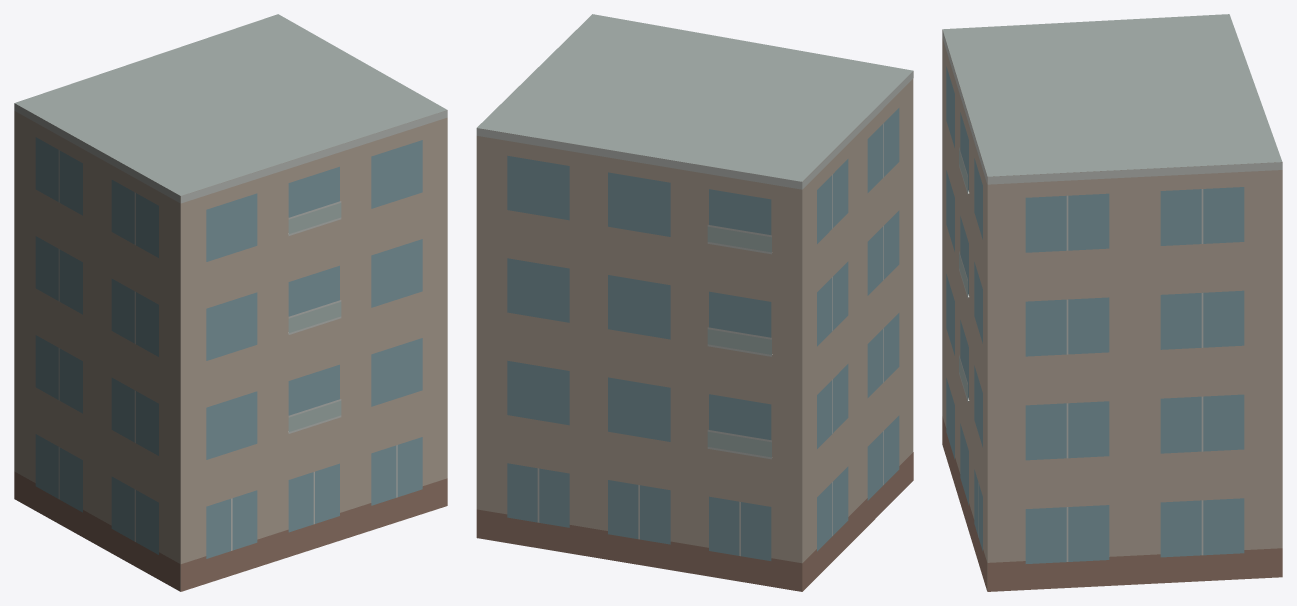
Rendered from survey-upis-32733651.glb.
3 views of the same model, side by side, from view 1: azimuth 30°, elevation 25°; view 2: azimuth 150°, elevation 25°; view 3: azimuth 270°, elevation 25° (orthographic). The views are drawn at different scales.
Parts seen in each view (by area): view 1: survey-upis-32733651.tmp; view 2: survey-upis-32733651.tmp; view 3: survey-upis-32733651.tmp.
Boxes of the visible parts, x1,y1,x2,y2 form: survey-upis-32733651.tmp: (14, 14, 447, 591); survey-upis-32733651.tmp: (476, 14, 913, 591); survey-upis-32733651.tmp: (942, 14, 1282, 591).
Bounding box in the file's own units: 10.77 × 12.8 × 9.51.
